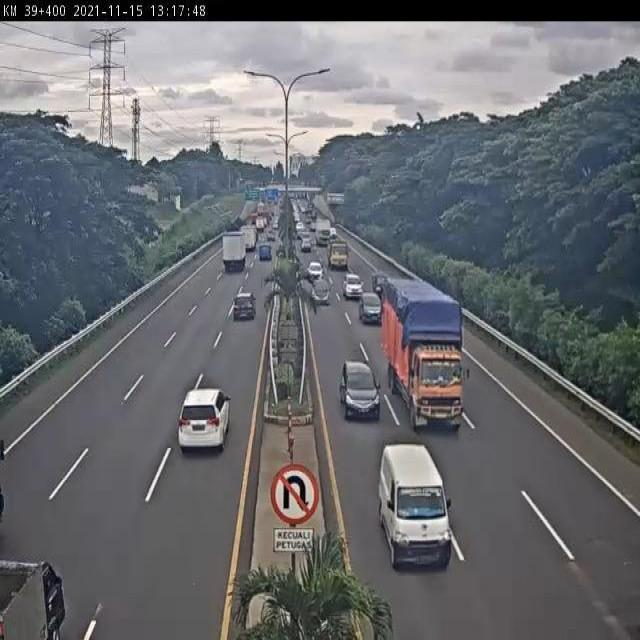bus-s-: (376, 444, 454, 575)
car: (175, 387, 232, 457), (339, 357, 382, 423), (358, 290, 384, 326), (231, 288, 257, 321), (309, 275, 333, 308), (343, 270, 364, 298), (306, 258, 324, 282)
truck-m-: (382, 275, 467, 433), (221, 229, 246, 275), (328, 235, 350, 272)
